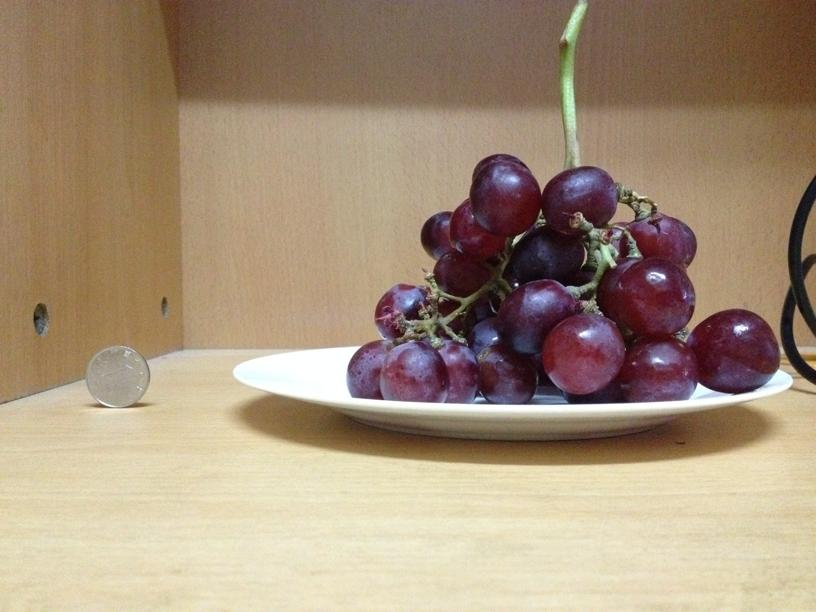coin: (83, 344, 151, 410)
grape: (350, 151, 778, 402)
